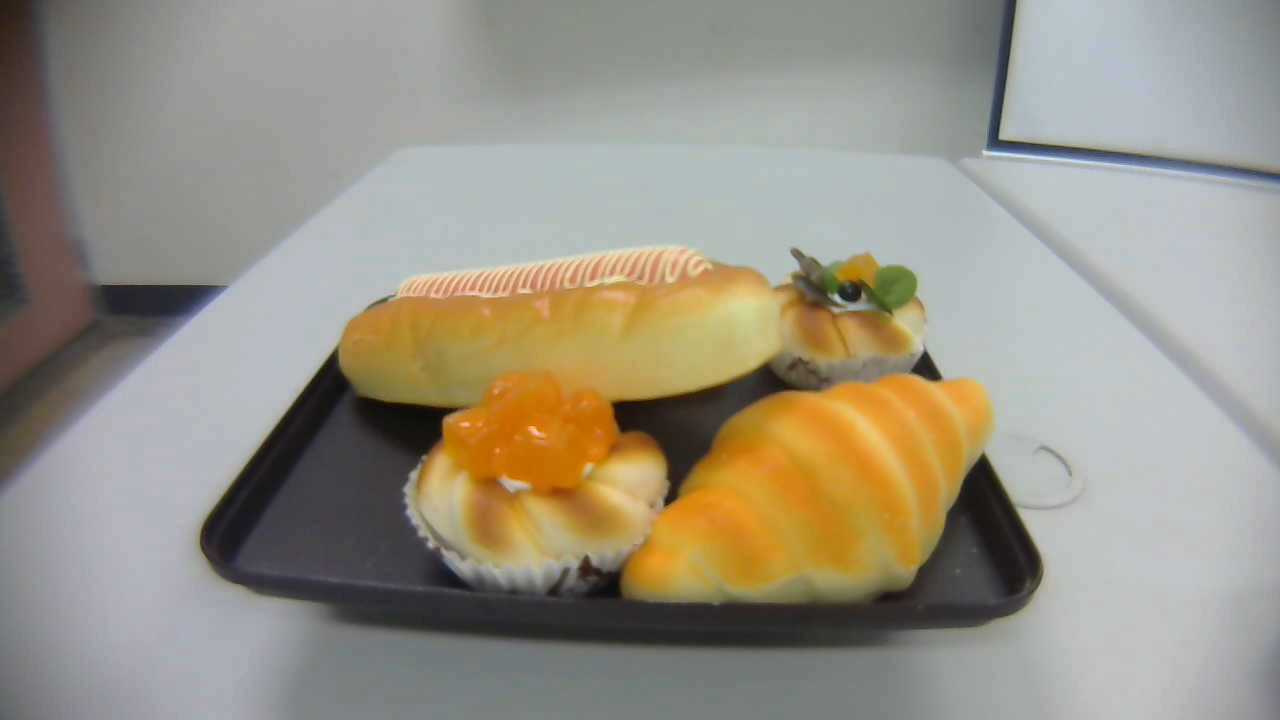croissant: (621, 373, 995, 600)
fruit tart: (768, 247, 928, 391)
hot dog: (337, 243, 780, 403)
mango tart: (403, 372, 669, 595)
